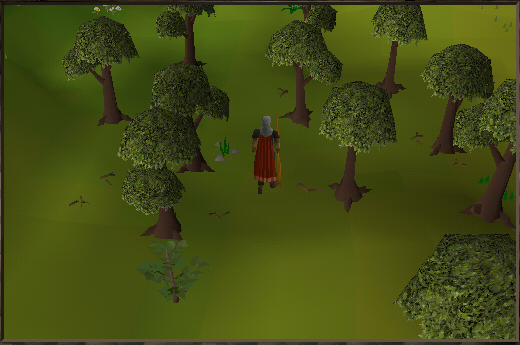Tree: (456, 81, 519, 224), (321, 88, 394, 203), (412, 42, 485, 154), (135, 117, 189, 238), (162, 71, 219, 172), (73, 15, 124, 124), (275, 19, 317, 124), (374, 0, 413, 93), (162, 0, 206, 63)
